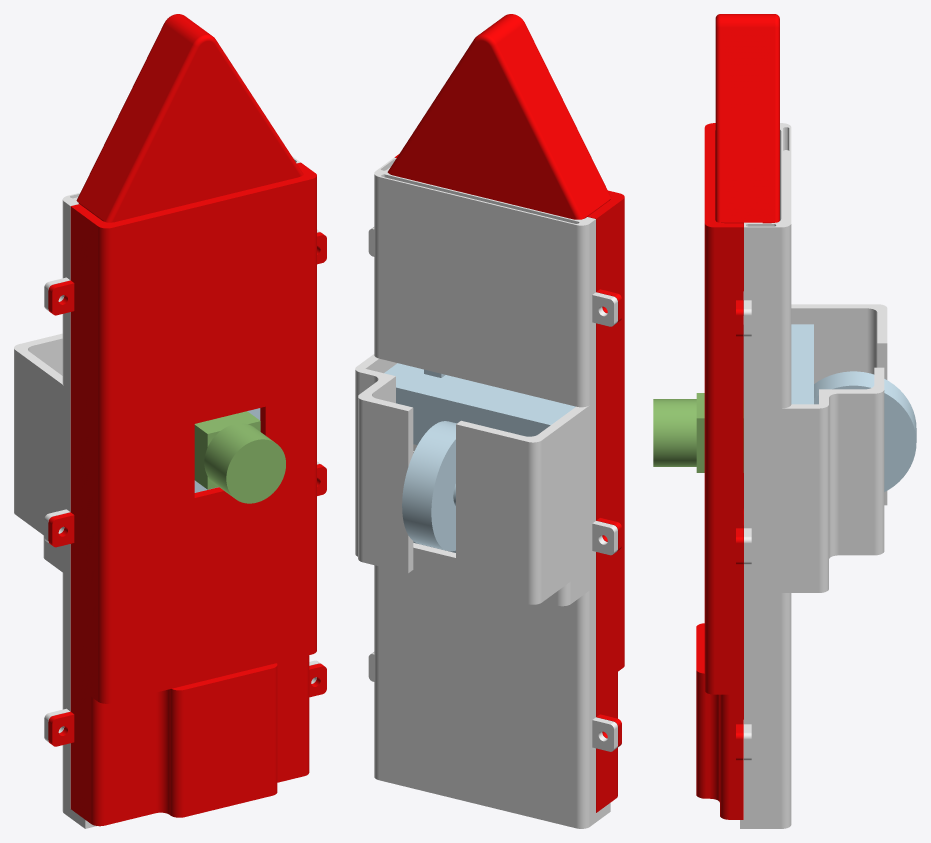
The model's file is Stylus.glb.
3 views of the same model, side by side, from view 1: azimuth 30°, elevation 25°; view 2: azimuth 150°, elevation 25°; view 3: azimuth 270°, elevation 25° (orthographic).
Parts seen in each view (by area): view 1: Part 38, Part 3, Part 39, Part 1__Part 1; view 2: Part 39, Part 3, Part 38, Part 1__Part 1 (×2); view 3: Part 39, Part 38, Part 3, Part 1__Part 1 (×3).
Part boxes in pixels (left/top/right/bottom): Part 38: left=48, top=162, right=326, bottom=826; Part 3: left=76, top=14, right=303, bottom=222; Part 39: left=14, top=156, right=320, bottom=828; Part 1__Part 1: left=194, top=411, right=285, bottom=503; Part 39: left=355, top=157, right=617, bottom=828; Part 3: left=387, top=14, right=611, bottom=219; Part 38: left=394, top=154, right=624, bottom=812; Part 1__Part 1 (×2): left=384, top=363, right=575, bottom=552; Part 39: left=740, top=123, right=887, bottom=828; Part 38: left=696, top=123, right=743, bottom=819; Part 3: left=715, top=14, right=779, bottom=223; Part 1__Part 1 (×3): left=653, top=324, right=916, bottom=491.
Bounding box in the file's own units: 0.0591 × 0.1671 × 0.0523.
